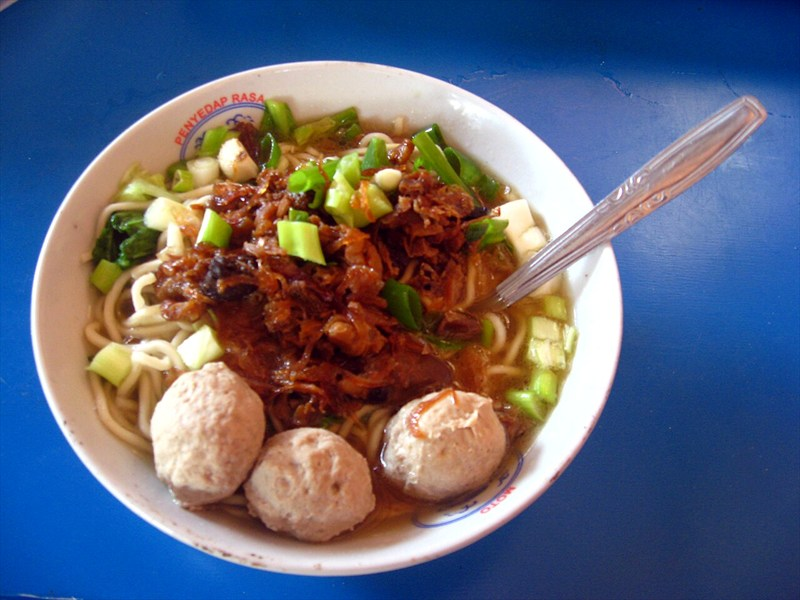Bakso: (67, 94, 613, 556)
